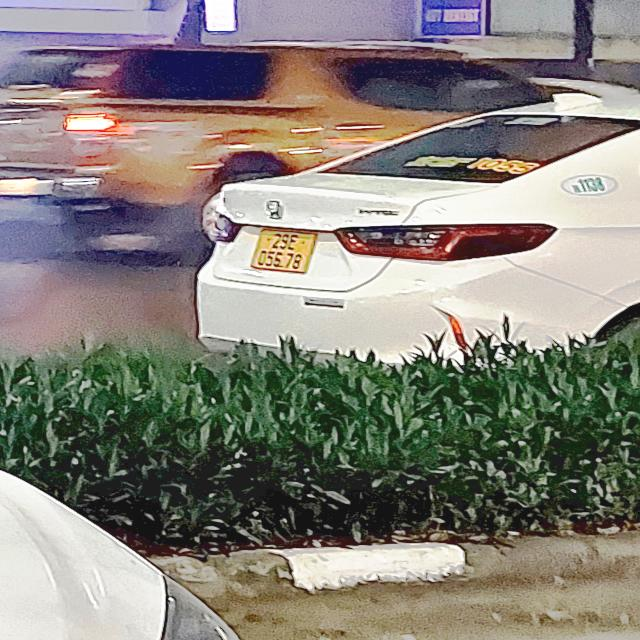license_plate: (251, 227, 324, 277)
